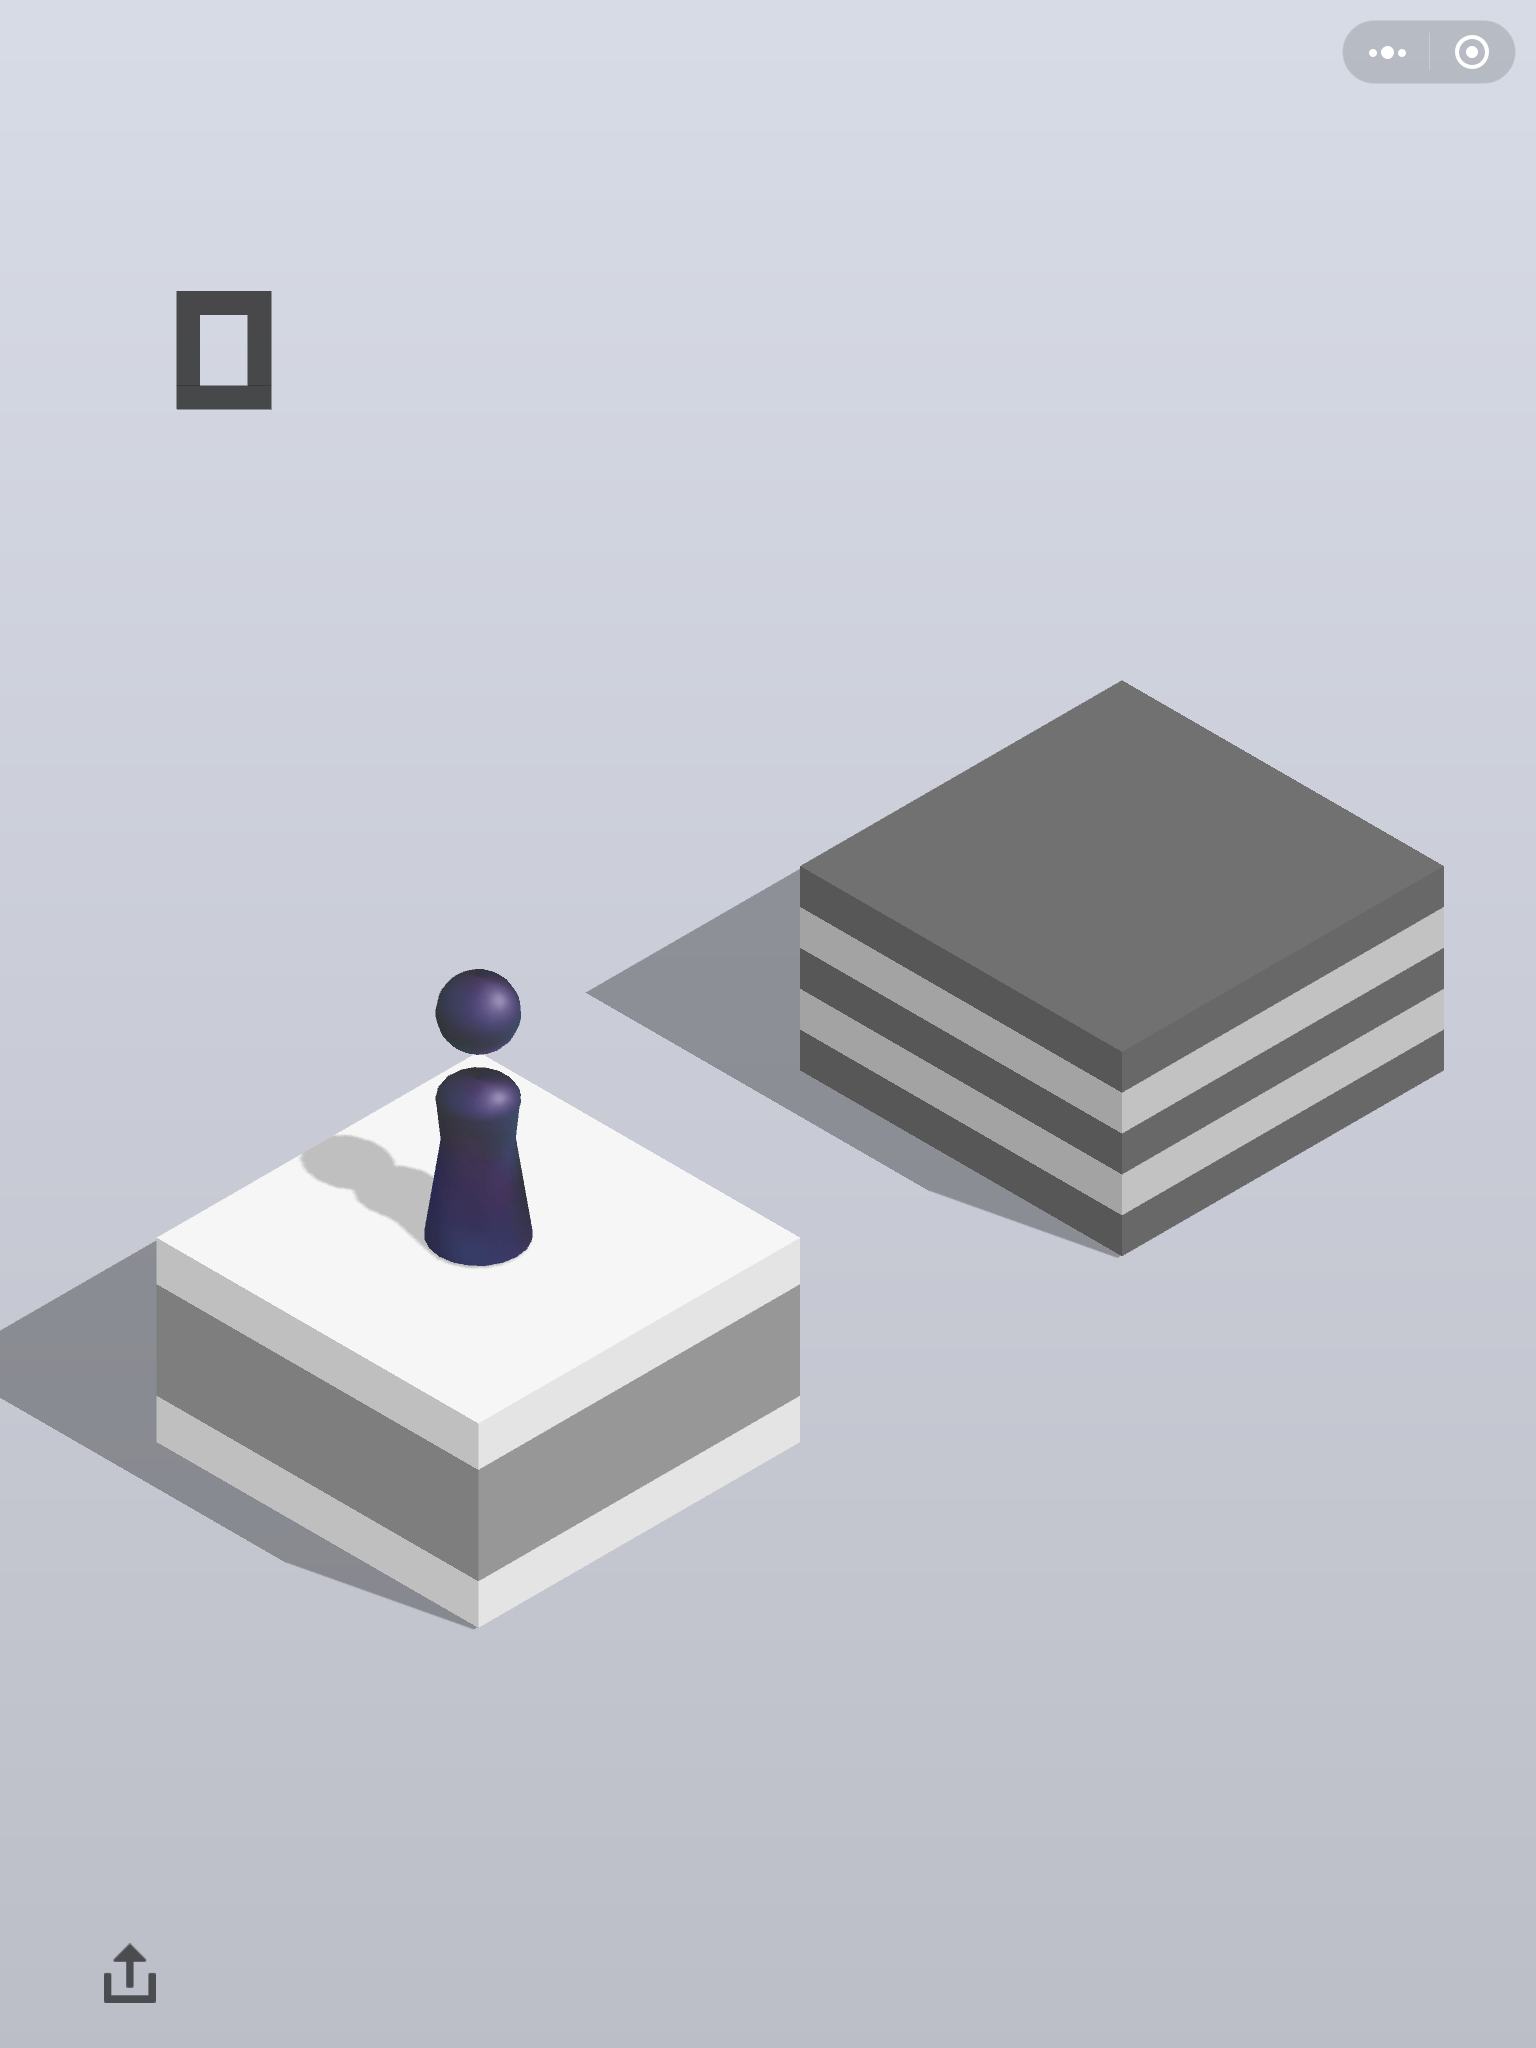f: (147, 1051, 807, 1634), (799, 676, 1449, 1256)
r: (419, 963, 537, 1276)
